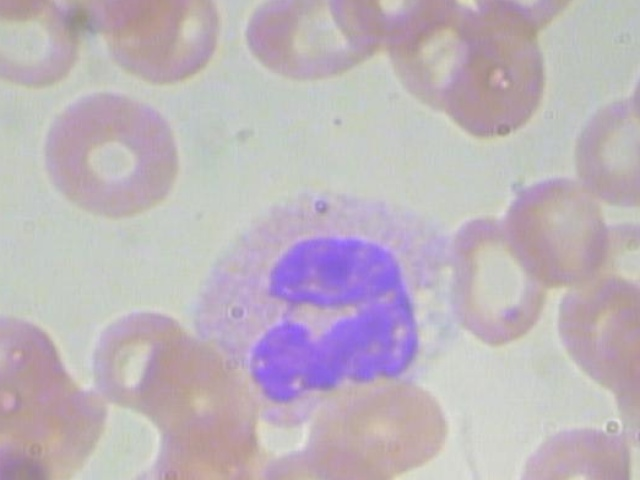RBC: (27, 85, 202, 234), (499, 170, 618, 287), (239, 0, 397, 86), (569, 90, 640, 208), (623, 31, 640, 137)
WBC: (181, 180, 493, 447)
